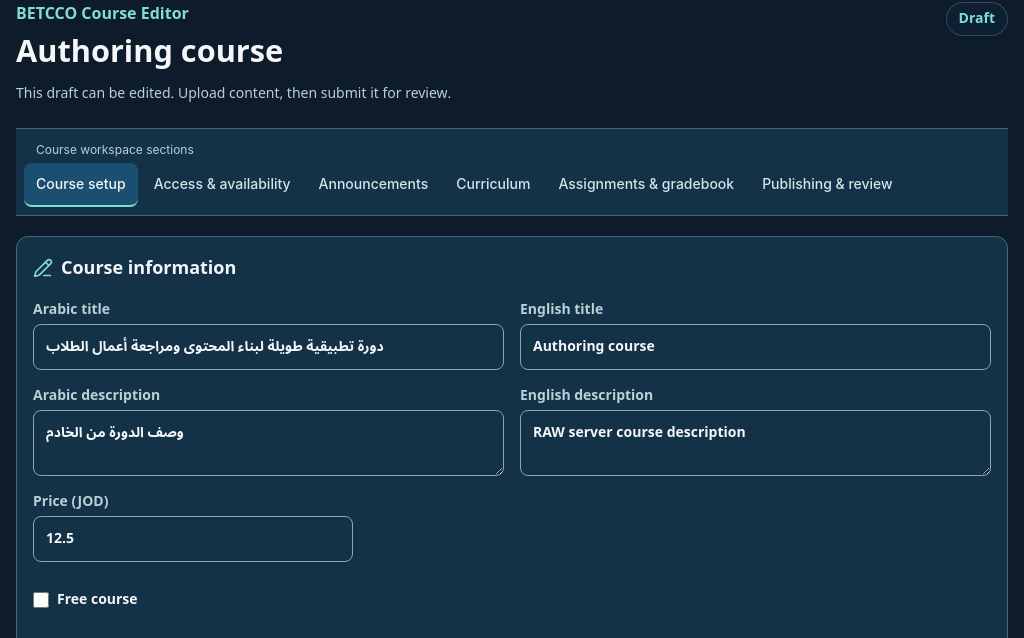
Test: en mutable Teacher authoring › preserves update payload and bodyless review request with server validation order
The image size is (1024, 638).
Replace the text in the field labelled "English title" with "RAW updated title": coordinates (756, 347) [520, 324, 991, 370]
(page scrolled)
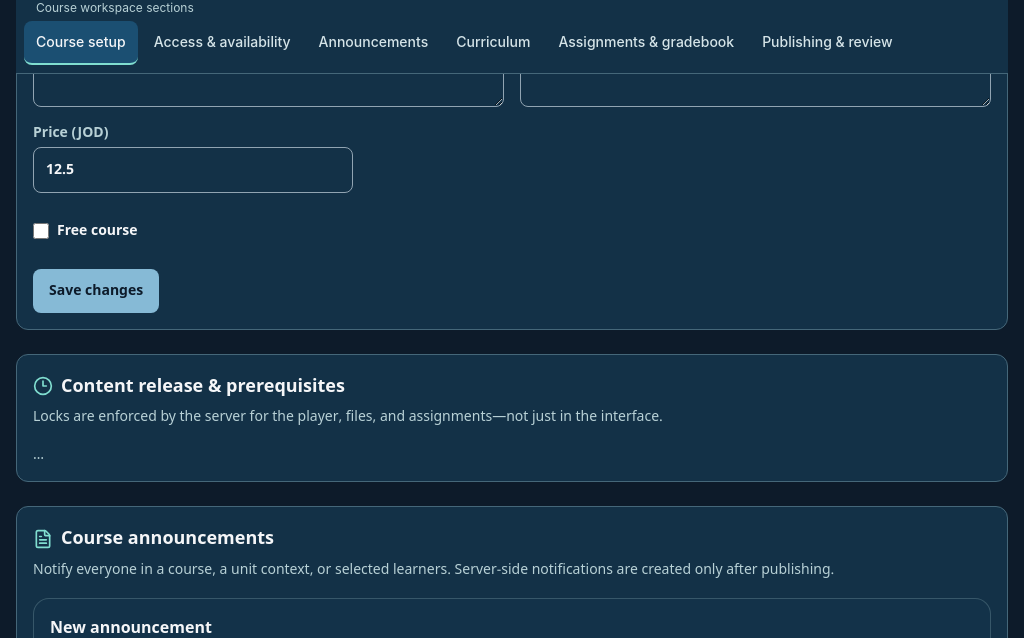
Click the button "Save changes": coordinates (96, 291) [33, 269, 159, 313]
(page scrolled)
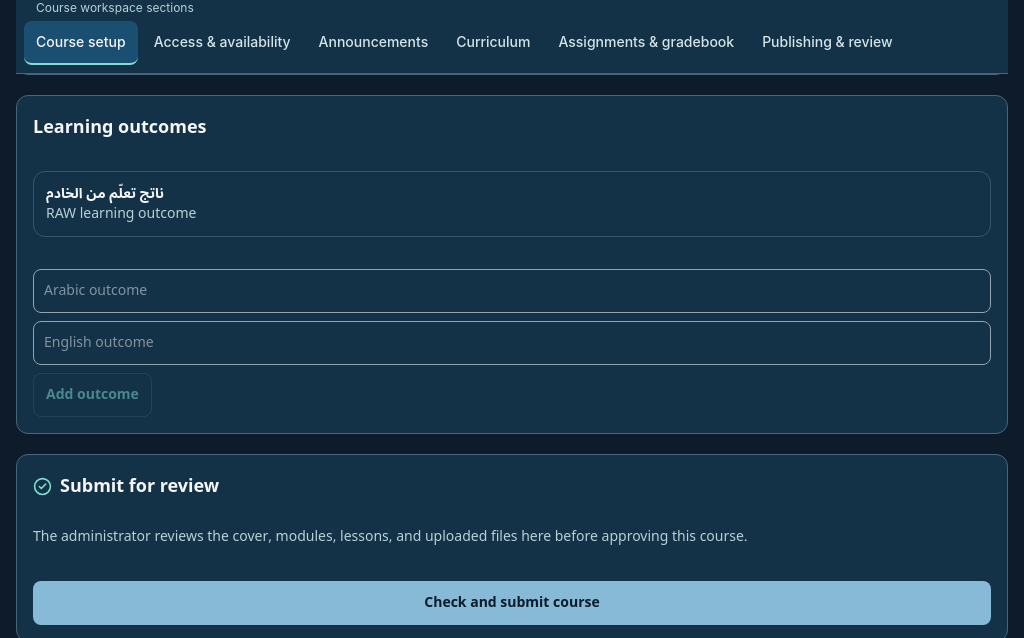
Click the button "Check and submit course": coordinates (512, 603) [33, 581, 991, 625]
(page scrolled)
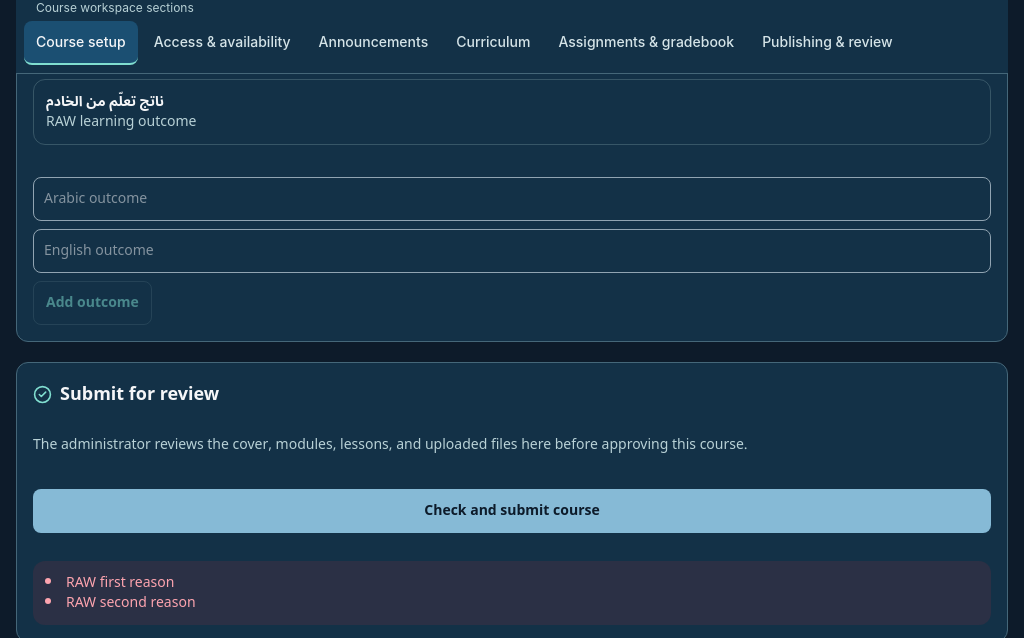
expect the list item "RAW second reason" is shown: met, box [66, 588, 196, 617]
expect the list items read "RAW first reason", "RAW second reason", in this order: met, box [66, 568, 174, 597]; [66, 588, 196, 617]
